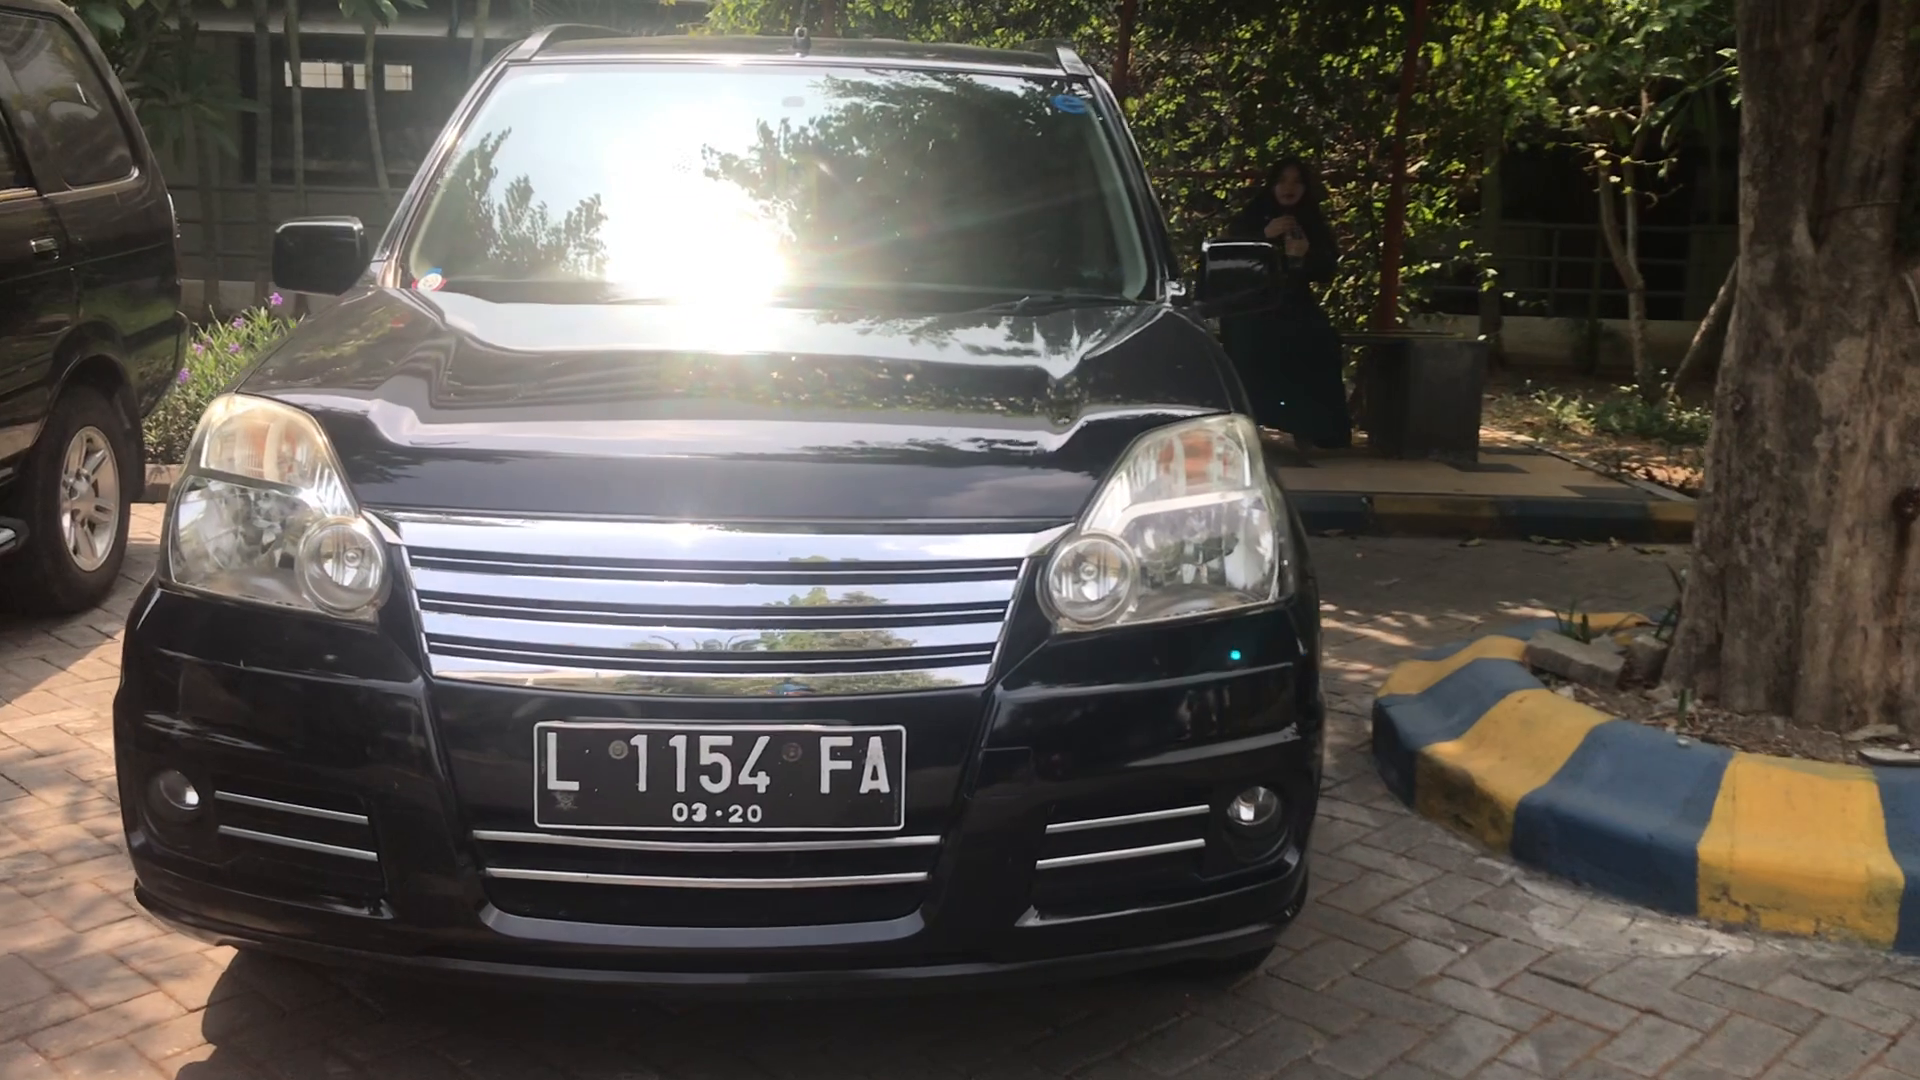plate: (532, 730, 907, 835)
